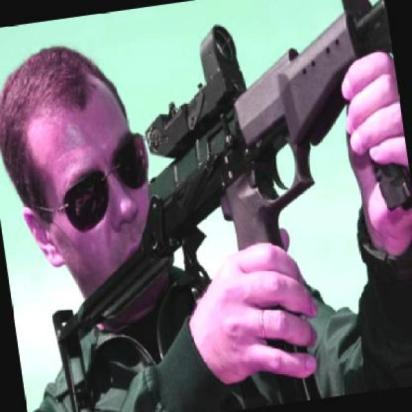Gun: (7, 0, 412, 412)
